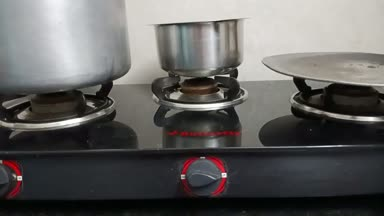flame_gas_off: (153, 64, 257, 202)
